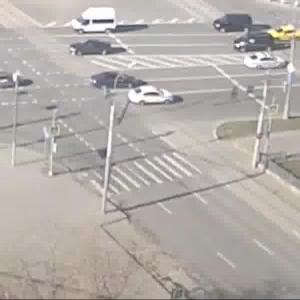car: (72, 11, 119, 33), (96, 74, 142, 94), (232, 35, 278, 55), (68, 39, 111, 59), (133, 87, 179, 105), (271, 25, 300, 45), (245, 54, 283, 69), (217, 17, 249, 33), (1, 67, 23, 87)
